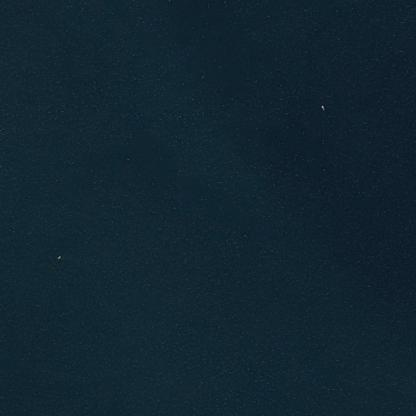ship: (46, 249, 69, 266), (313, 100, 331, 116)
